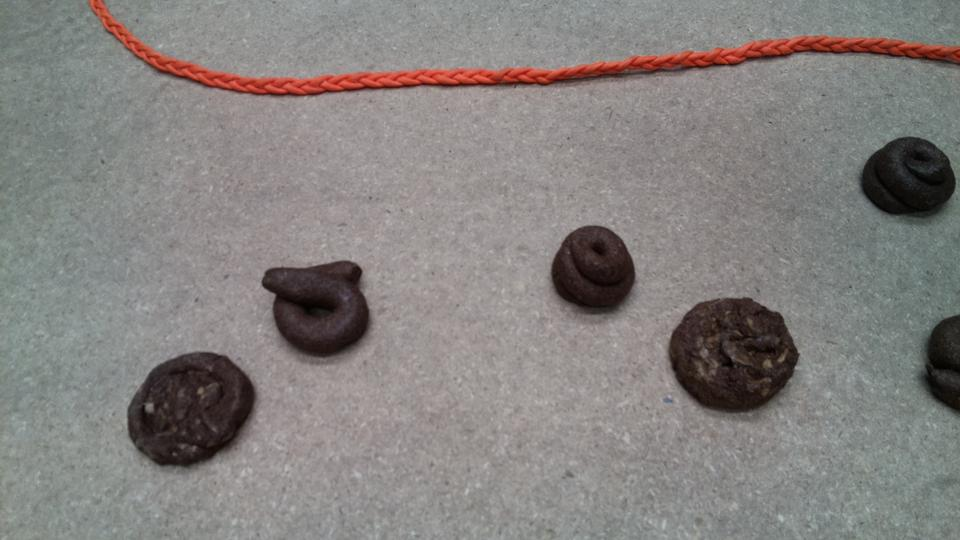poop: (665, 294, 805, 415), (123, 349, 258, 469), (260, 257, 372, 359), (859, 134, 960, 220), (549, 223, 638, 314), (920, 306, 960, 416)
rope: (86, 1, 960, 98)
